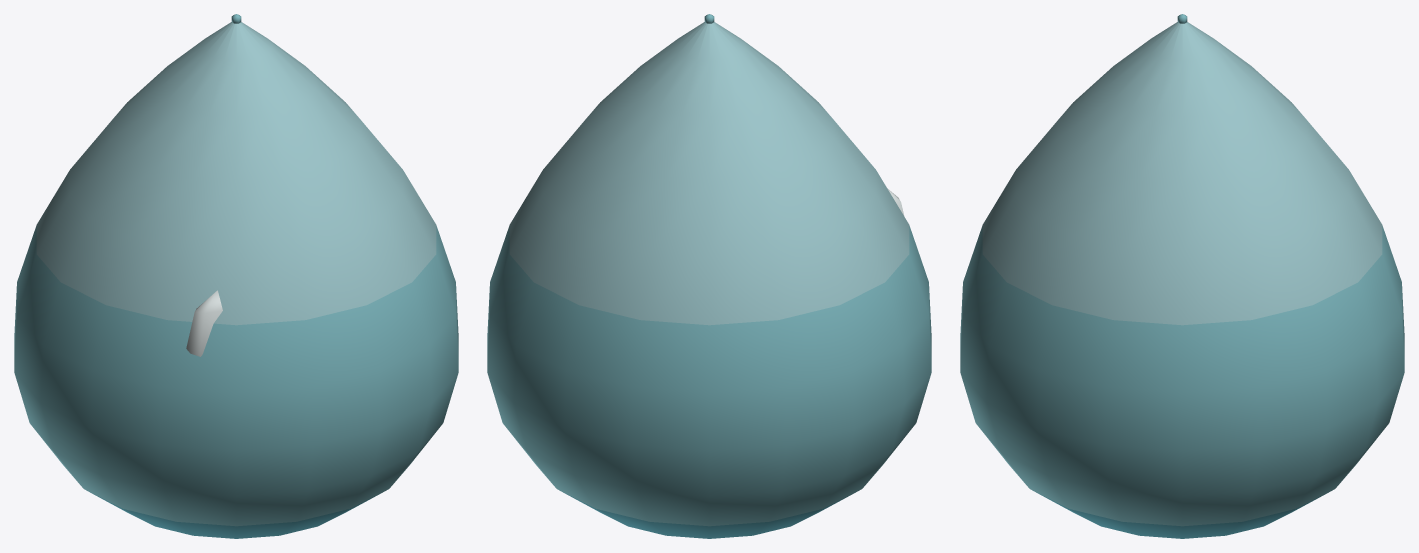
The model's file is water_drop.glb.
3 views of the same model, side by side, from view 1: azimuth 30°, elevation 25°; view 2: azimuth 150°, elevation 25°; view 3: azimuth 270°, elevation 25° (orthographic).
Parts seen in each view (by area): view 1: body, body_nl; view 2: body; view 3: body.
Part boxes in pixels (x1=…): body: x1=14, y1=14, x2=458, y2=538; body_nl: x1=186, y1=290, x2=222, y2=356; body: x1=487, y1=14, x2=931, y2=538; body: x1=960, y1=14, x2=1404, y2=538.
Bounding box in the file's own units: 1.57 × 1.92 × 1.55.
